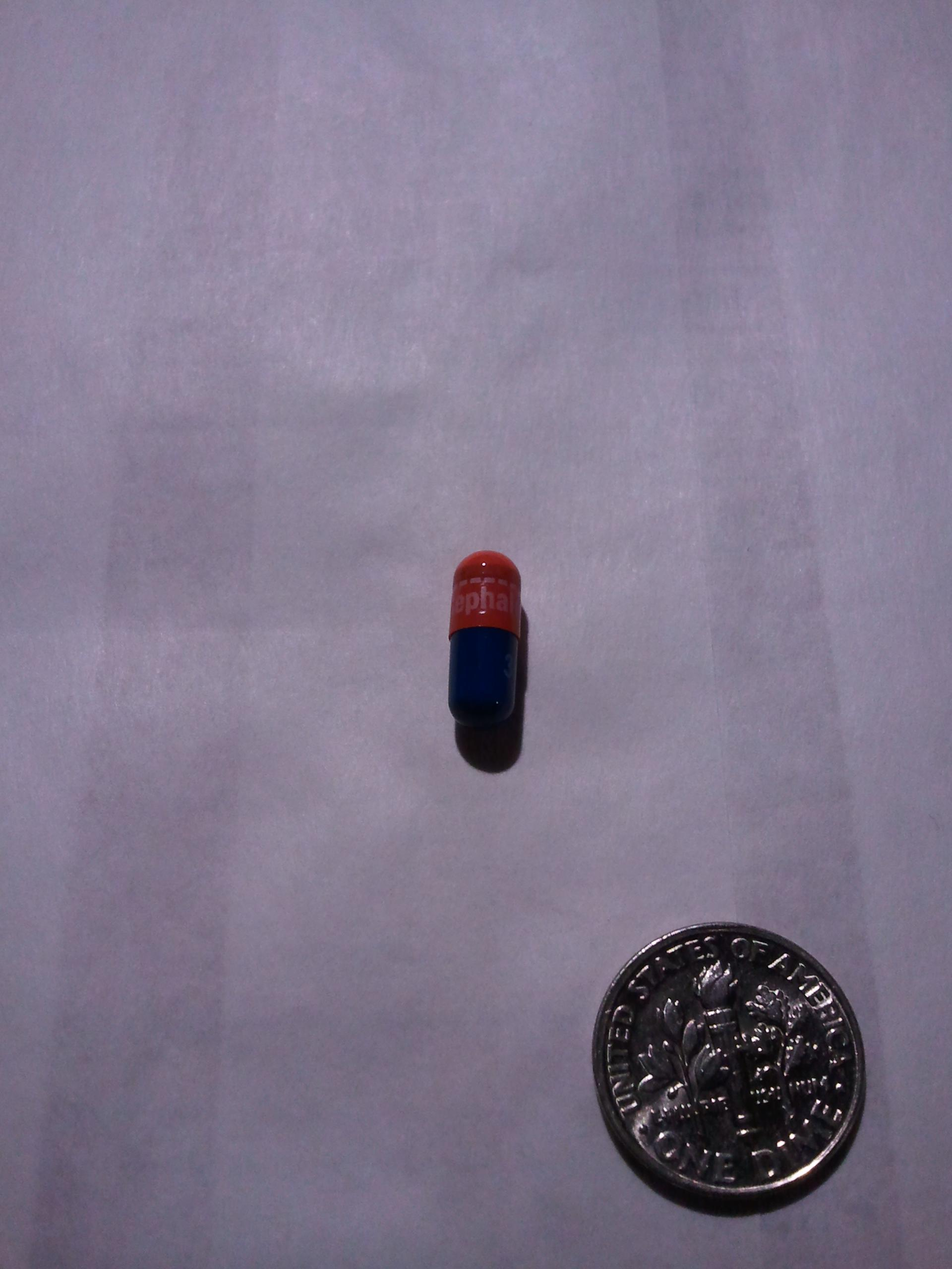Pill: (436, 535, 533, 770)
